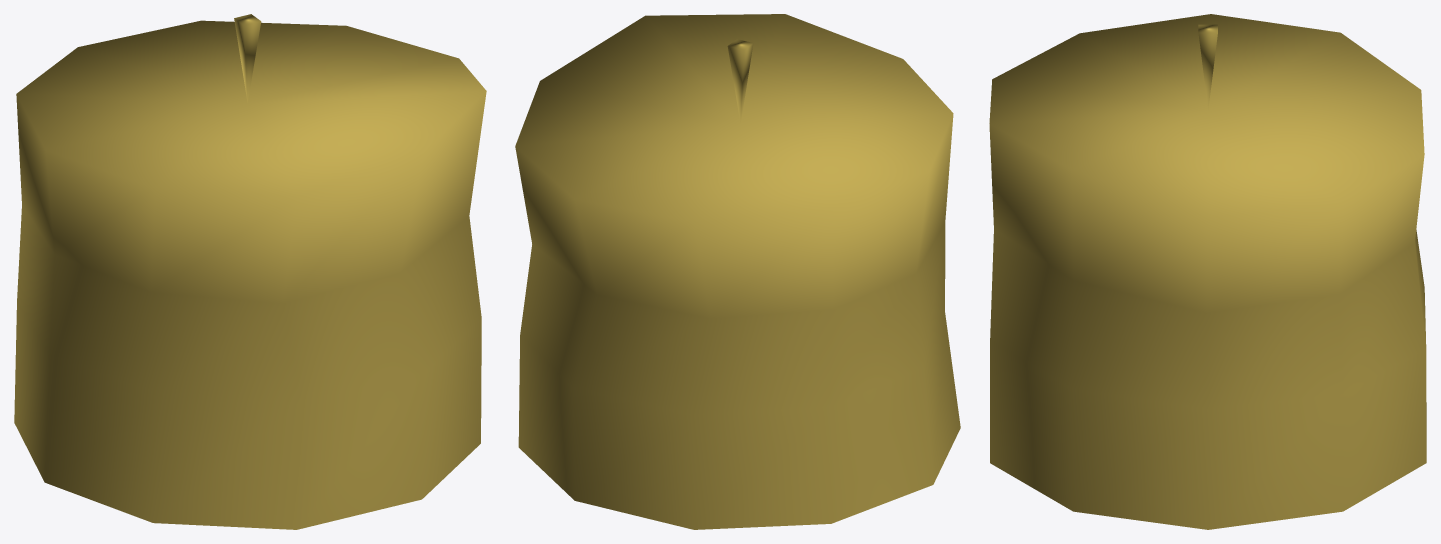
File: candle3_LP.fbx
3 views of the same model, side by side, from view 1: azimuth 30°, elevation 25°; view 2: azimuth 150°, elevation 25°; view 3: azimuth 270°, elevation 25° (orthographic). The views are drawn at different scales.
Parts seen in each view (by area): view 1: candle2_LP; view 2: candle2_LP; view 3: candle2_LP.
Boxes of the visible parts, x1,y1,x2,y2 form: candle2_LP: [14, 14, 486, 529]; candle2_LP: [515, 14, 960, 529]; candle2_LP: [989, 14, 1426, 529].
Size of the model in its own units: 8.81 by 8.41 by 8.24.
